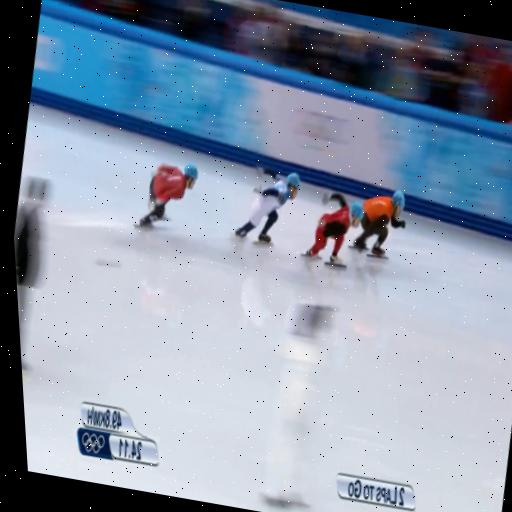Skater: (235, 170, 299, 243), (304, 193, 362, 266), (137, 164, 197, 227), (351, 190, 404, 257)
